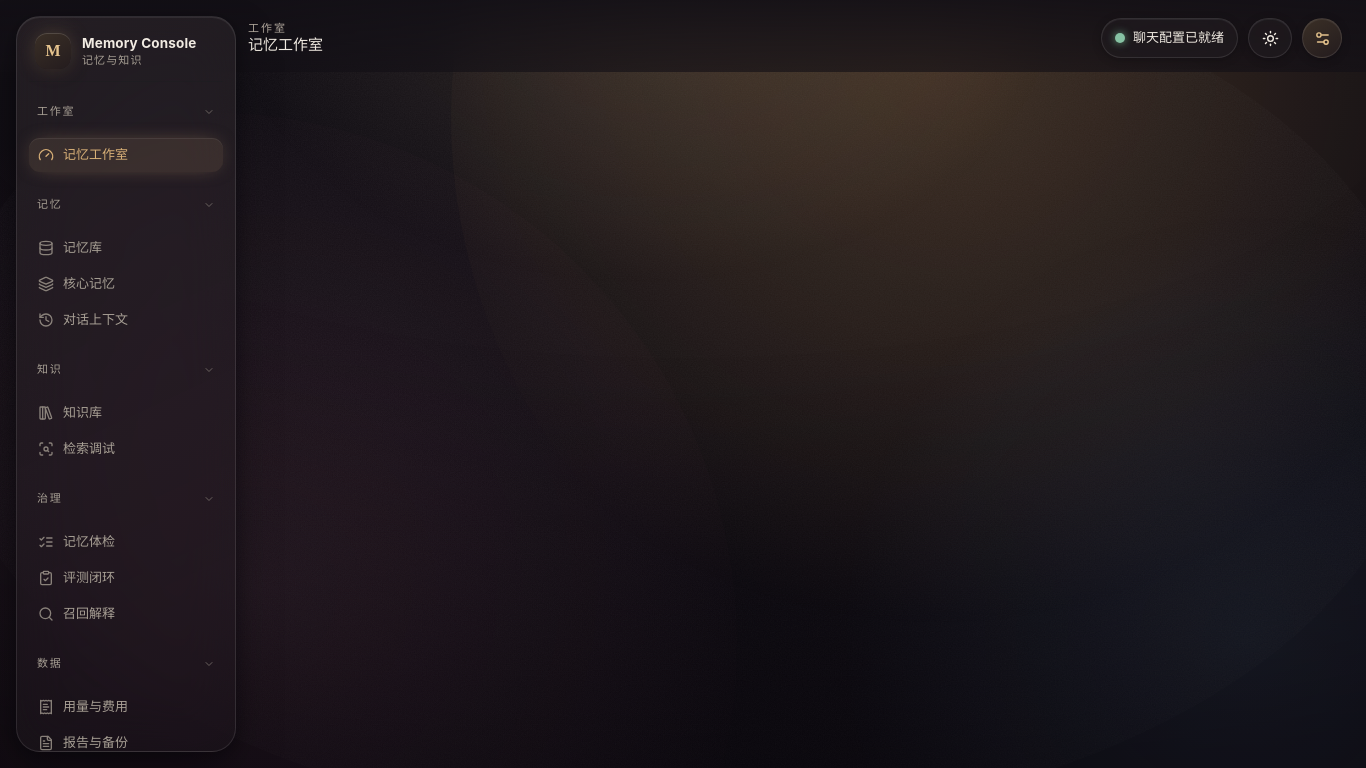
Test: expert nav collapsible sections › collapses a section, persists it, and keeps the active section open
Expected: the button "记忆体检" is shown, [29,525,223,559]
# 折叠「治理」分组后条目消失，偏好被持久化
Click the button "治理". click: (126, 501)
box: [29,479,223,523]
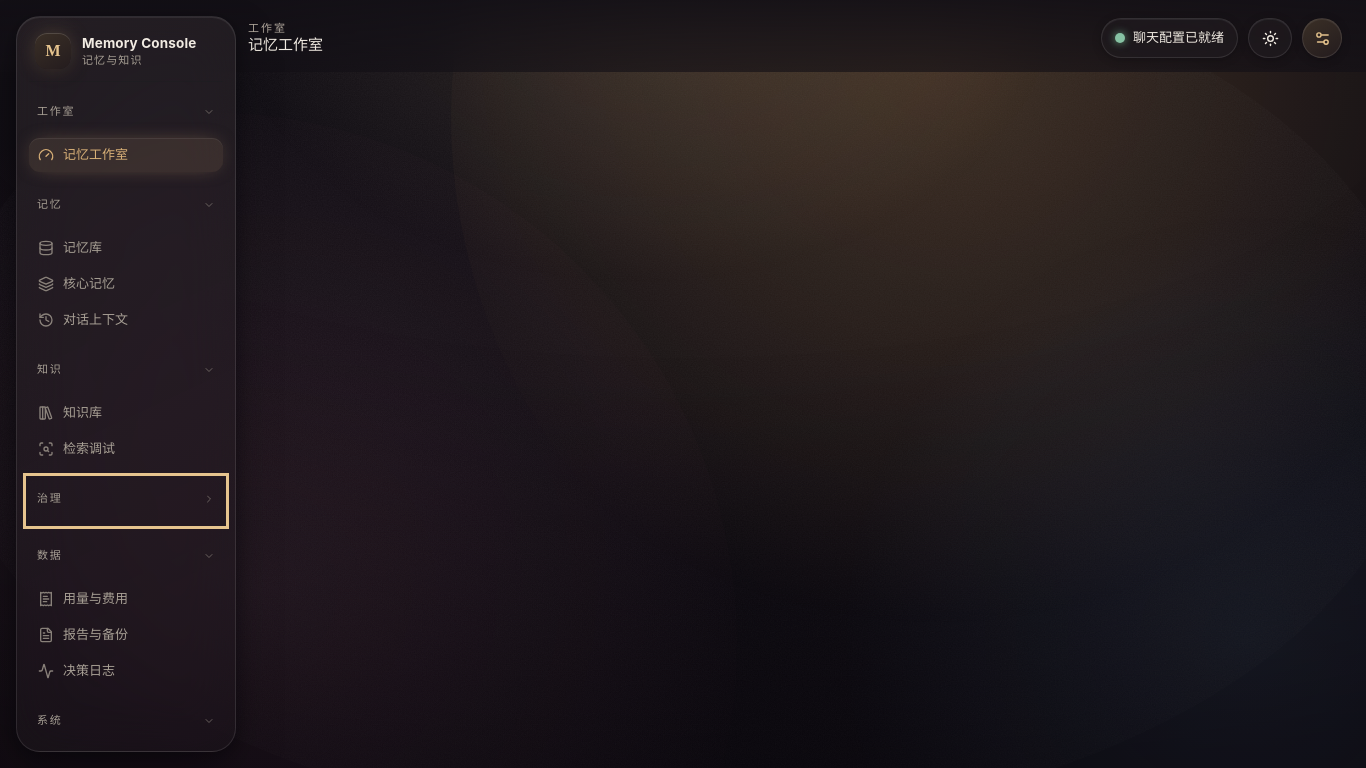
Now the button "记忆体检" is gone
# 含当前页面的分组即使被标记折叠也保持展开
Click the button "工作室". click: (126, 114)
box: [29,92,223,136]
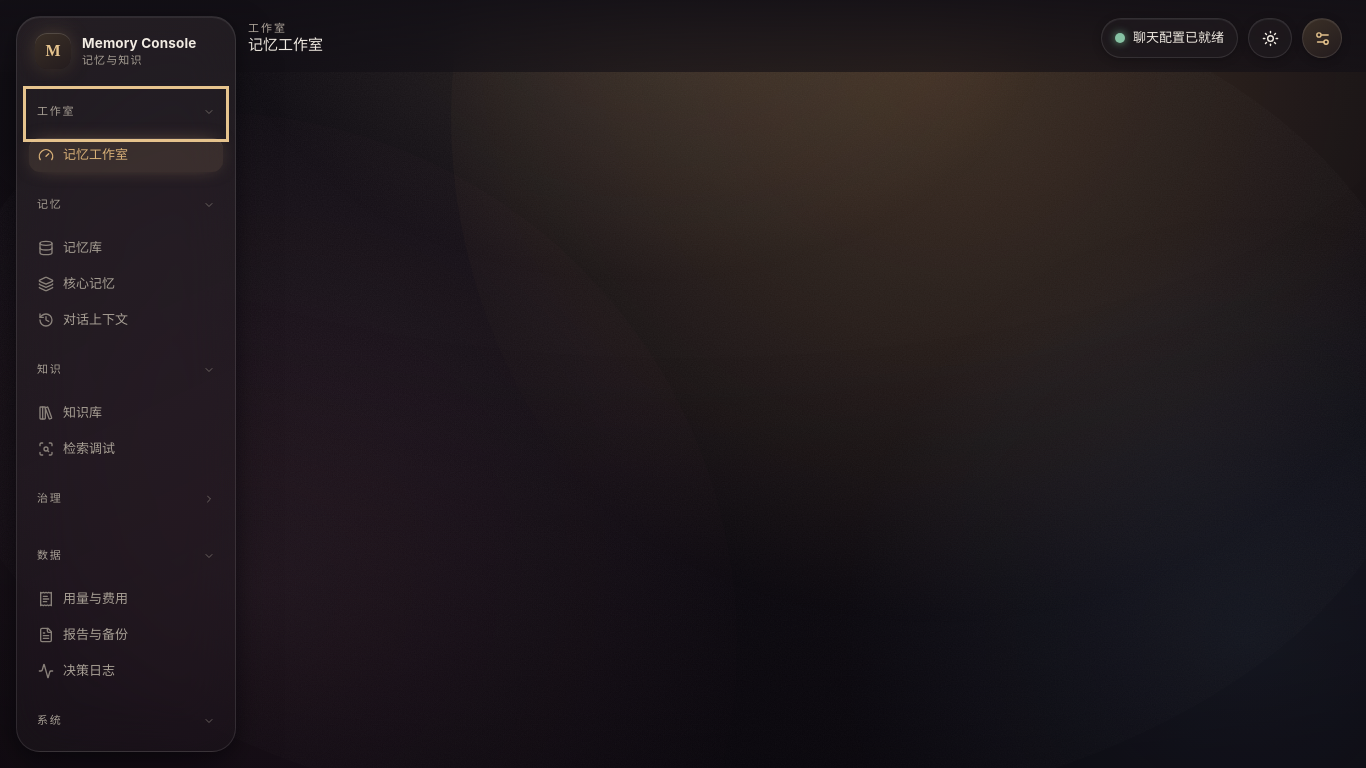
Expected: the button "记忆工作室" is shown, [29,138,223,172]
# 再点一次恢复展开
Click the button "治理". click: (126, 501)
box: [29,479,223,523]
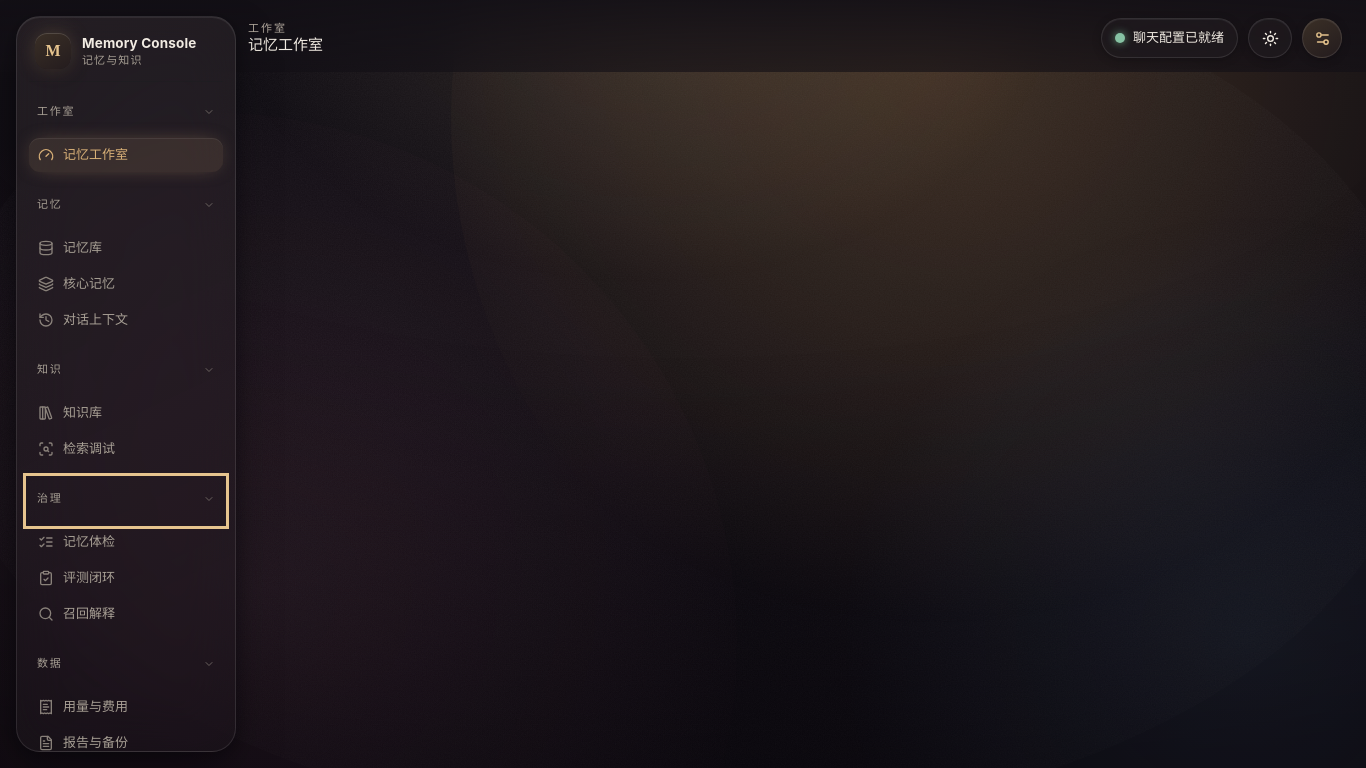
Now the button "记忆体检" is shown, box [29,525,223,559]
